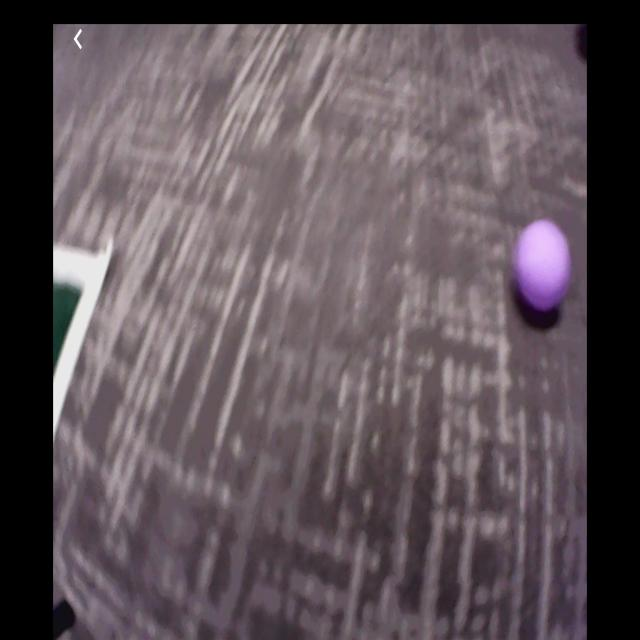ball: (519, 225, 570, 316)
